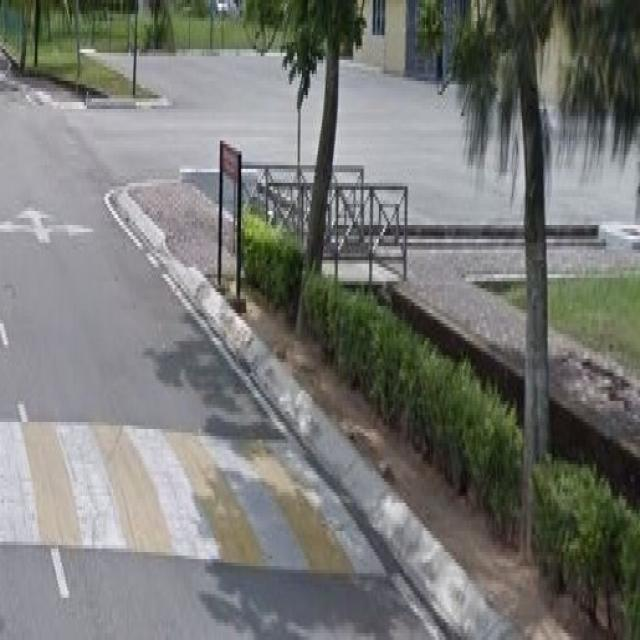speed-bump: (0, 387, 387, 589)
